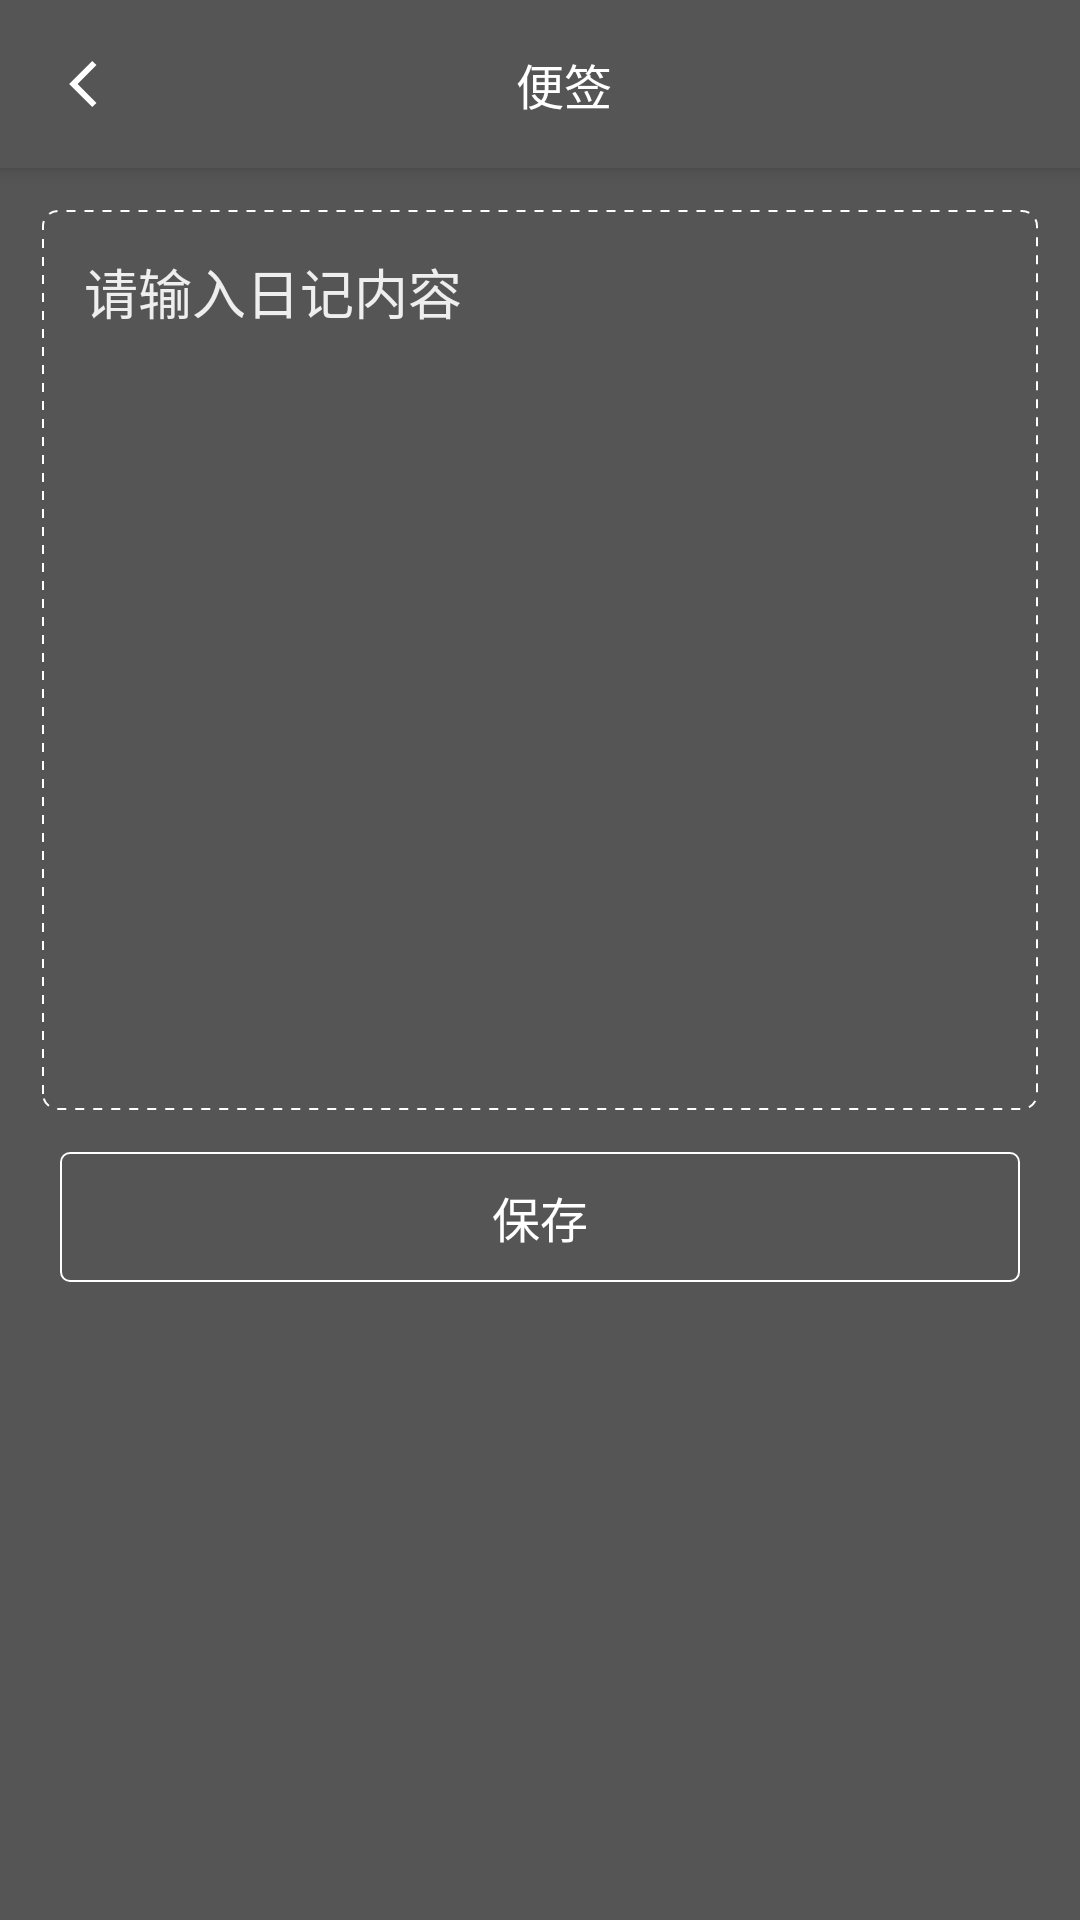

Named icons in this screenshot (1080×1920) and their bounding boxes, box(x1, y1, x2, y2):
arrow left: box(69, 61, 96, 107)
